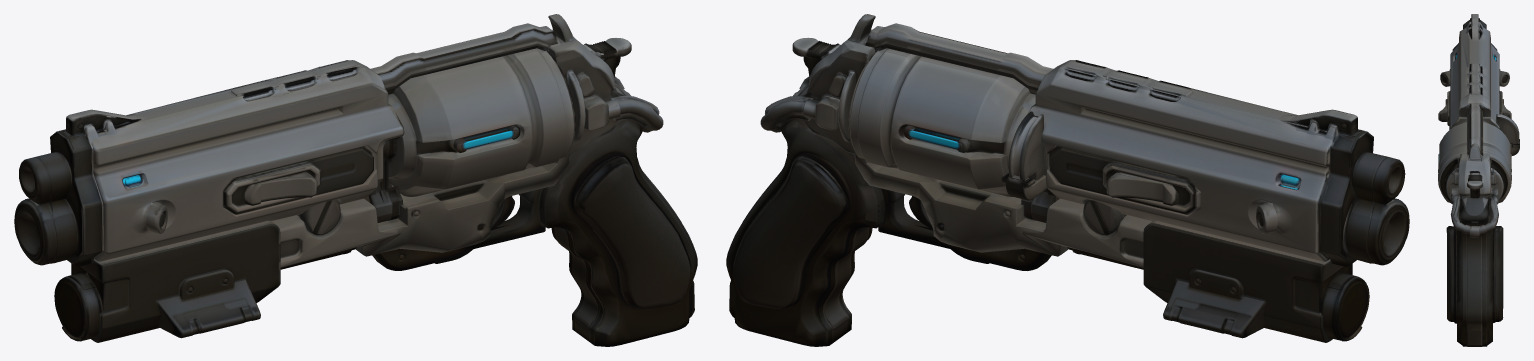
The model's file is tripo_convert_8d6a33fd-3313-44d1-ad95-26b970dca4b2.fbx.
The picture shows the model from 3 angles, left to right: view 1: azimuth 30°, elevation 25°; view 2: azimuth 150°, elevation 25°; view 3: azimuth 270°, elevation 25°; orthographic projection. The views are drawn at different scales.
Parts seen in each view (by area): view 1: tripo_node_8d6a33fd; view 2: tripo_node_8d6a33fd; view 3: tripo_node_8d6a33fd.
Boxes of the visible parts, <box> form: tripo_node_8d6a33fd: <box>14,14,697,346</box>; tripo_node_8d6a33fd: <box>726,14,1409,346</box>; tripo_node_8d6a33fd: <box>1438,14,1519,346</box>.
Size of the model in its own units: 99.95 by 20.75 by 50.83.
Materials: 1 (1 with a texture image).
